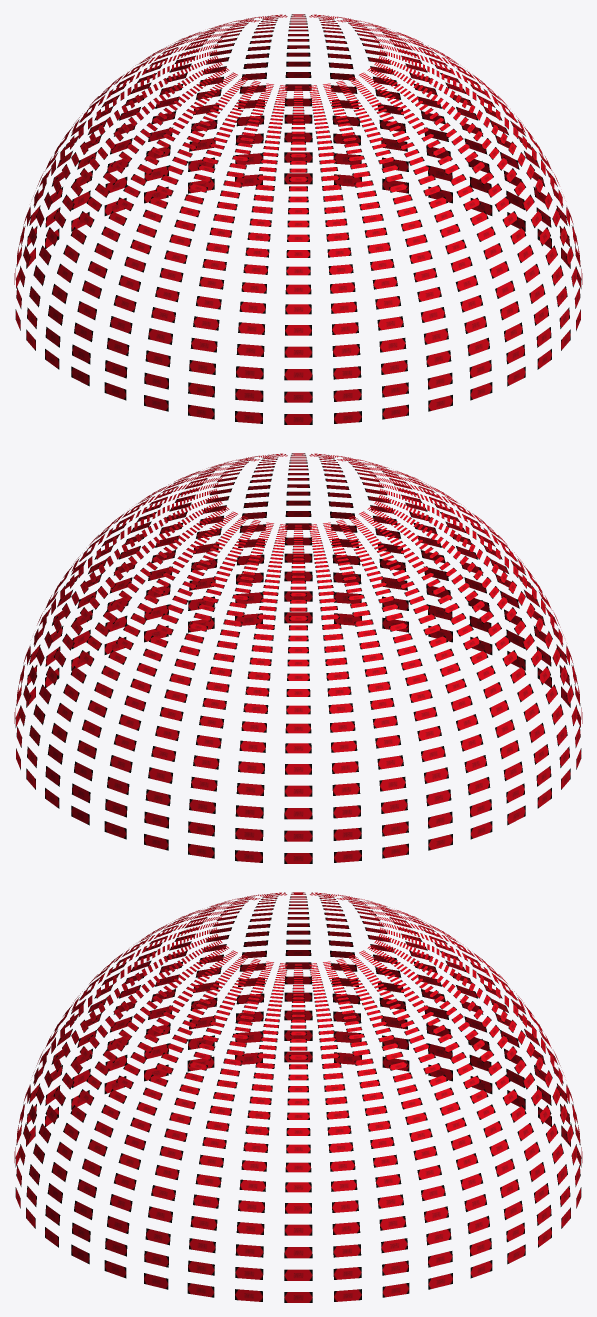
File: Warning.fbx
3 views of the same model, one above another, from view 1: azimuth 30°, elevation 25°; view 2: azimuth 150°, elevation 25°; view 3: azimuth 270°, elevation 25° (orthographic).
Visible parts, largest first — view 1: Warning.001; view 2: Warning.001; view 3: Warning.001.
Boxes of the visible parts, x1=… form: Warning.001: x1=14, y1=14, x2=582, y2=424; Warning.001: x1=14, y1=453, x2=582, y2=863; Warning.001: x1=14, y1=892, x2=582, y2=1302.
Size of the model in its own units: 4227 by 2076 by 4227.
